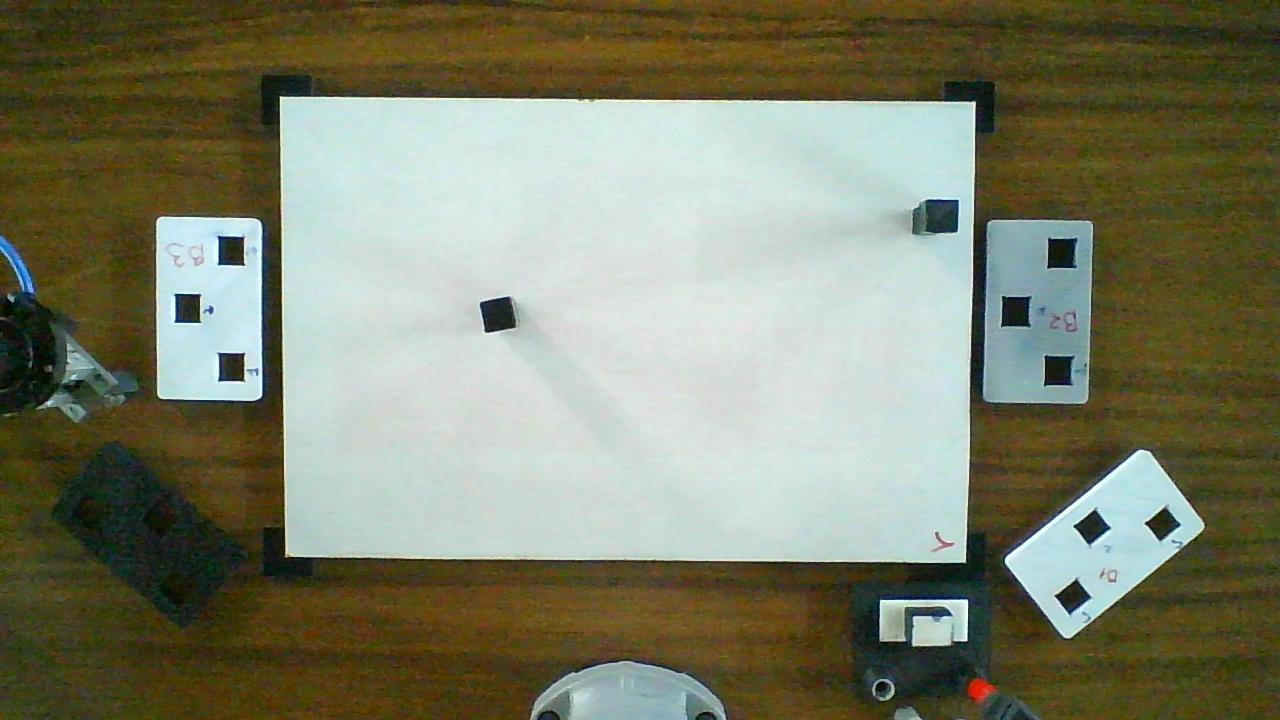peca_preta: (481, 298, 515, 332), (928, 200, 958, 232)
